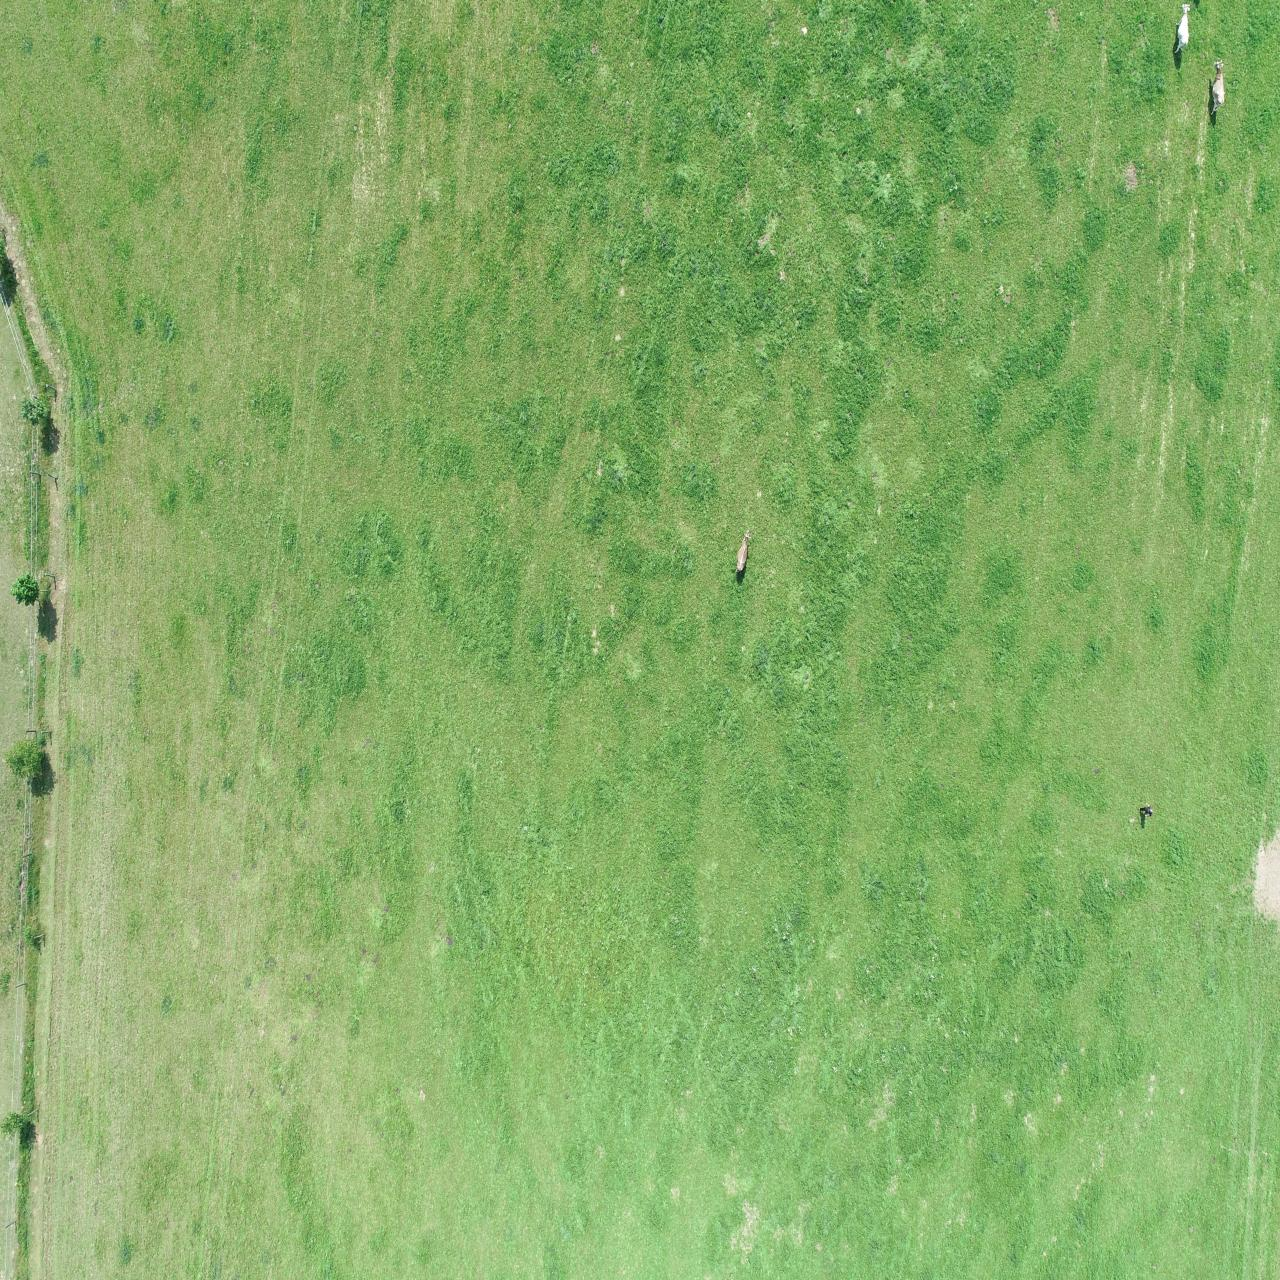cow: (1173, 0, 1193, 60), (1208, 59, 1228, 117), (734, 527, 755, 580)
